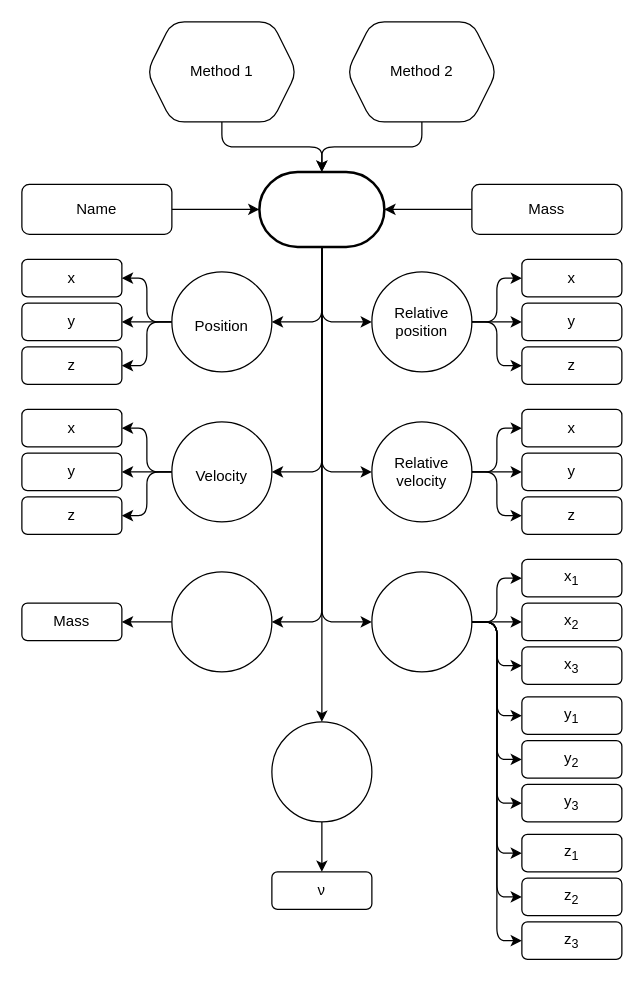
Image size: 644x981. Some labels were removed from this diagram. Here are the shapes that lost their labels. From the top down, the centre of each, then its label:
At point 321,209: "SPV".
At point 221,621: "Passthrough".
At point 421,621: "Rotation base".
At point 321,771: "Debug".
